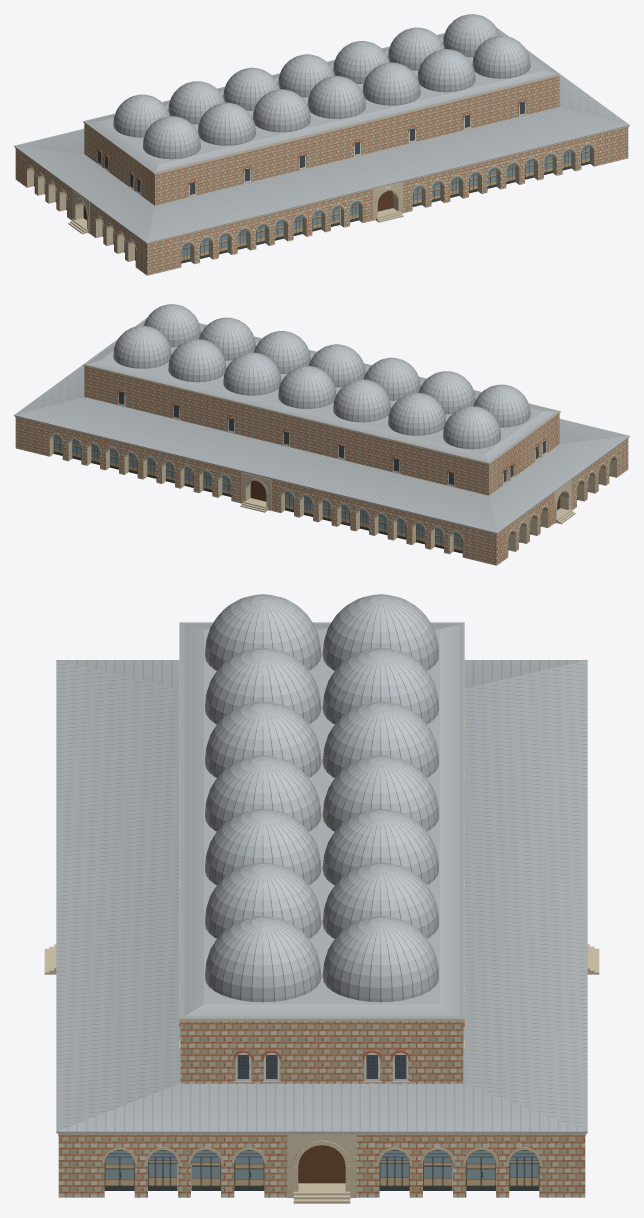
The model's file is bedesten.glb.
3 renders of one model, top to bottom at view 1: azimuth 30°, elevation 25°; view 2: azimuth 150°, elevation 25°; view 3: azimuth 270°, elevation 25°, orthographic. The views are drawn at different scales.
Parts seen in each view (by area): view 1: Cati, Kubbeler, Dukkanlar, Govde, Sacak, Pencereler, Kapilar, Dukkan_Kapilari; view 2: Cati, Kubbeler, Dukkanlar, Govde, Sacak, Pencereler, Kapilar, Dukkan_Kapilari; view 3: Cati, Kubbeler, Dukkanlar, Govde, Sacak, Kapilar, Pencereler, Dukkan_Kapilari.
Part boxes in pixels (x1,y1,x2,y2): Cati: (14, 31, 629, 243); Kubbeler: (113, 14, 530, 159); Dukkanlar: (15, 127, 628, 275); Govde: (84, 28, 559, 205); Sacak: (15, 27, 628, 244); Pencereler: (97, 99, 526, 196); Kapilar: (68, 182, 403, 234); Dukkan_Kapilari: (26, 143, 595, 250); Cati: (14, 321, 629, 533); Kubbeler: (113, 304, 530, 449); Dukkanlar: (15, 417, 628, 565); Govde: (84, 319, 559, 495); Sacak: (15, 317, 628, 534); Pencereler: (117, 389, 546, 486); Kapilar: (240, 472, 575, 524); Dukkan_Kapilari: (48, 433, 617, 540); Cati: (56, 624, 587, 1133); Kubbeler: (205, 594, 438, 1002); Dukkanlar: (58, 1135, 585, 1197); Govde: (180, 622, 463, 1083); Sacak: (58, 622, 586, 1135); Kapilar: (44, 944, 599, 1203); Pencereler: (179, 719, 464, 1082); Dukkan_Kapilari: (102, 1147, 541, 1163).
Bounding box in the file's own units: 72.5 × 14.2 × 35.3.
10 materials, 5 textured.
